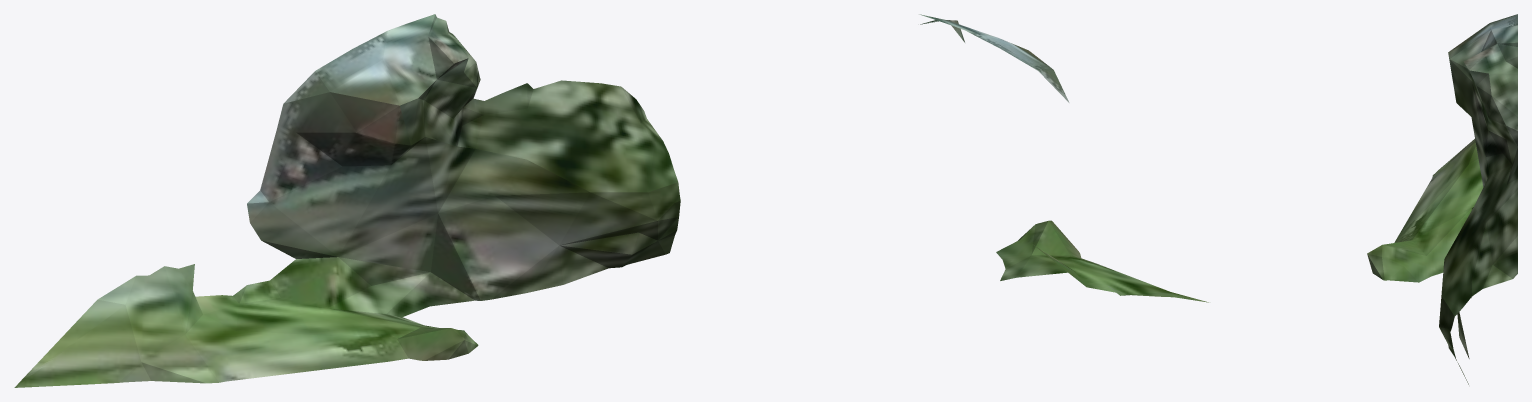
3 renders of one model, left to right at view 1: azimuth 30°, elevation 25°; view 2: azimuth 150°, elevation 25°; view 3: azimuth 270°, elevation 25°, orthographic. The views are drawn at different scales.
Bounding box in the file's own units: 3.25 × 1.34 × 0.7289.
Materials: 1 (1 with a texture image).
